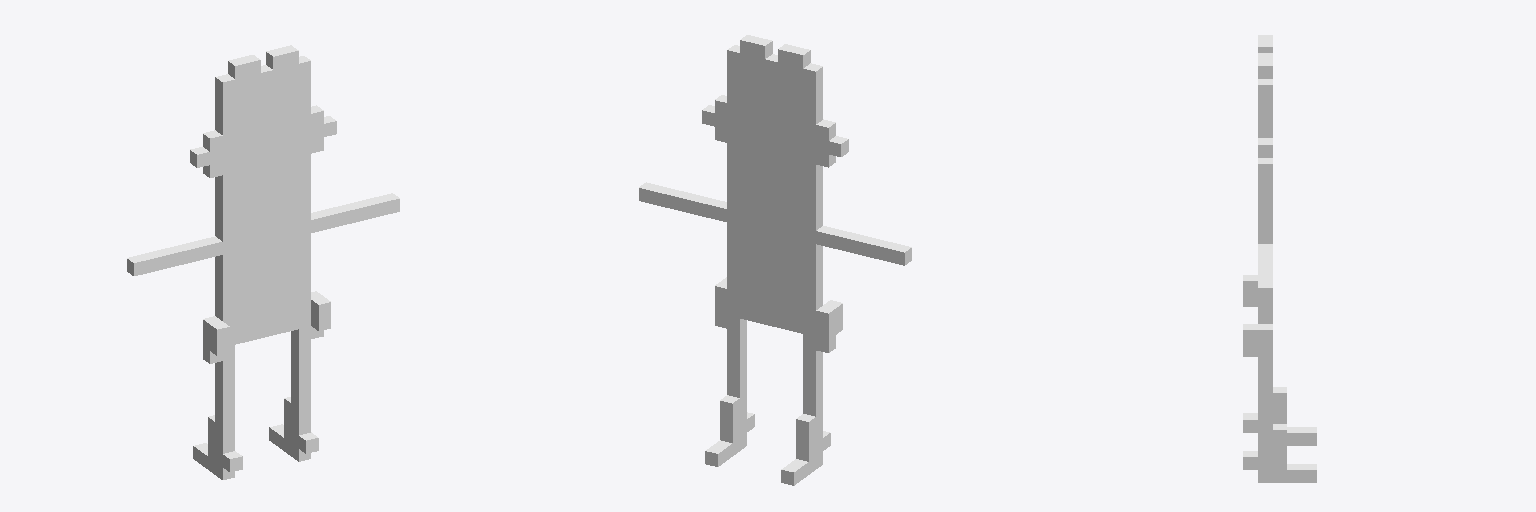
The model's file is johnnyTurbo_v1.obj.
3 views of the same model, side by side, from view 1: azimuth 30°, elevation 25°; view 2: azimuth 150°, elevation 25°; view 3: azimuth 270°, elevation 25° (orthographic).
Parts seen in each view (by area): view 1: johnnyTurbo_v1; view 2: johnnyTurbo_v1; view 3: johnnyTurbo_v1.
Boxes of the visible parts, <box> form: johnnyTurbo_v1: <box>127,45,399,479</box>; johnnyTurbo_v1: <box>639,35,911,485</box>; johnnyTurbo_v1: <box>1243,35,1316,482</box>.
Bounding box in the file's own units: 21 × 31 × 5.